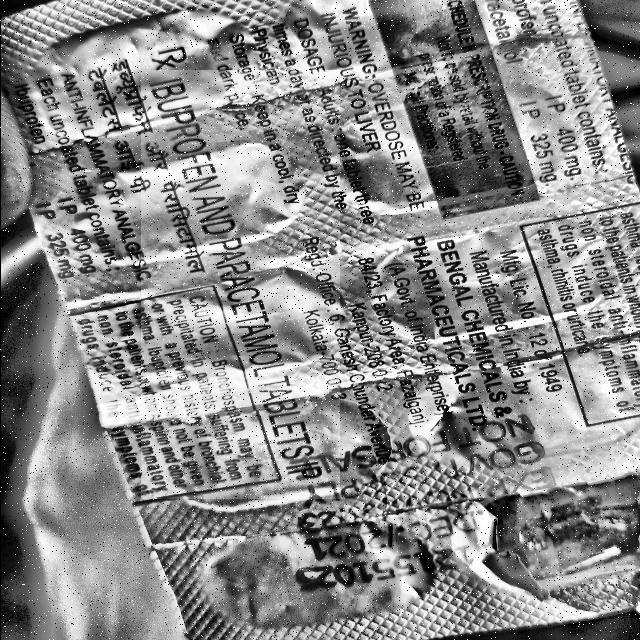IBUPROFEN AND PARACETAMOL TABLETS: (140, 71, 339, 498)
